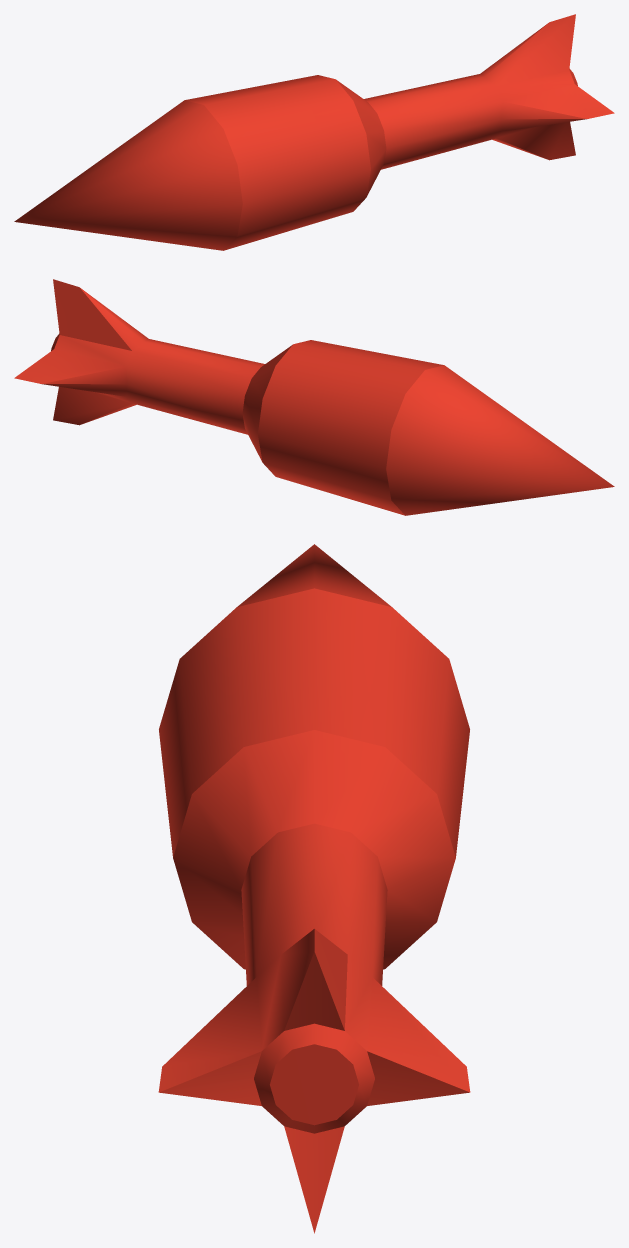
Rendered from bullet.fbx.
3 renders of one model, top to bottom at view 1: azimuth 30°, elevation 25°; view 2: azimuth 150°, elevation 25°; view 3: azimuth 270°, elevation 25°, orthographic. The views are drawn at different scales.
Parts seen in each view (by area): view 1: BazookaMissle; view 2: BazookaMissle; view 3: BazookaMissle.
Boxes of the visible parts, bbox=[...] form: BazookaMissle: bbox=[14, 14, 614, 250]; BazookaMissle: bbox=[14, 279, 614, 515]; BazookaMissle: bbox=[158, 544, 470, 1233].
Size of the model in its own units: 69.64 by 16.73 by 16.73.
